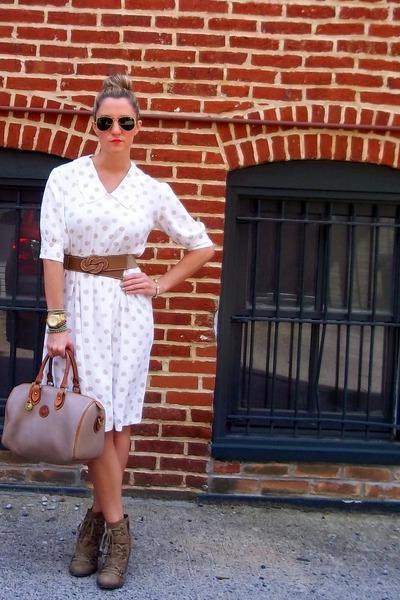dress: (39, 152, 217, 430)
